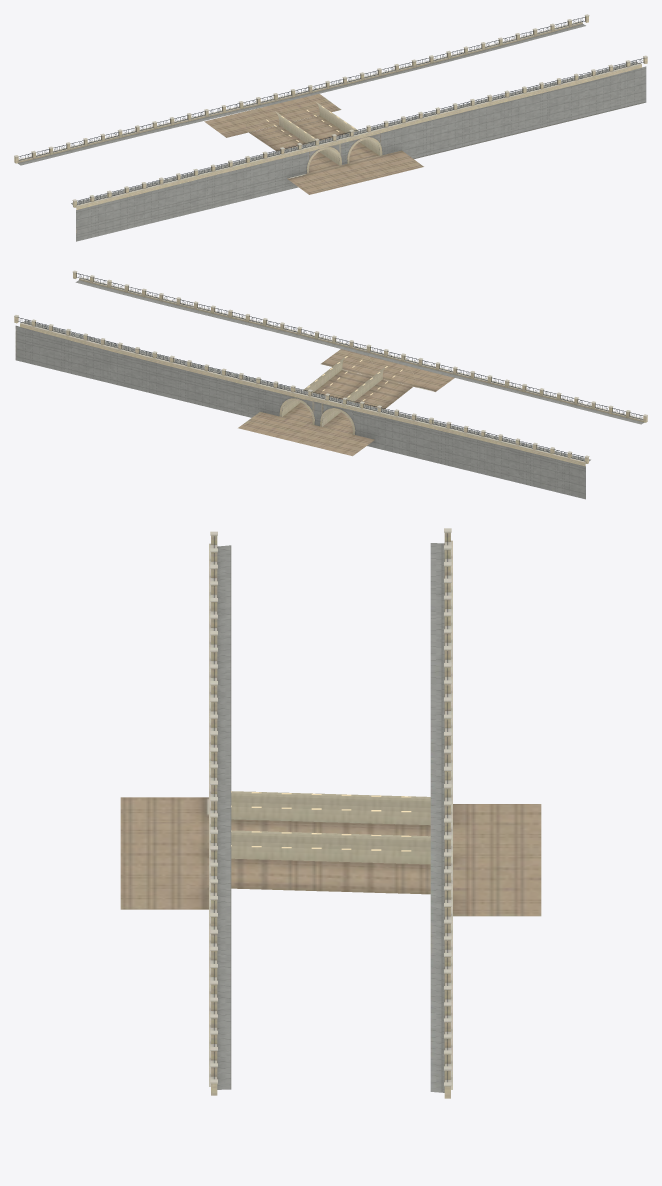
The model's file is astrakhan_bridge.glb.
The picture shows the model from 3 angles, top to bottom: view 1: azimuth 30°, elevation 25°; view 2: azimuth 150°, elevation 25°; view 3: azimuth 270°, elevation 25°; orthographic projection. The views are drawn at different scales.
Parts seen in each view (by area): view 1: astrakhan_bridge; view 2: astrakhan_bridge; view 3: astrakhan_bridge.
Boxes of the visible parts, bbox=[...] form: astrakhan_bridge: bbox=[14, 14, 647, 241]; astrakhan_bridge: bbox=[14, 270, 647, 499]; astrakhan_bridge: bbox=[120, 528, 541, 1098].
Size of what is drawn, in the model's own units: 120 by 9.03 by 38.
3 materials, 3 textured.
